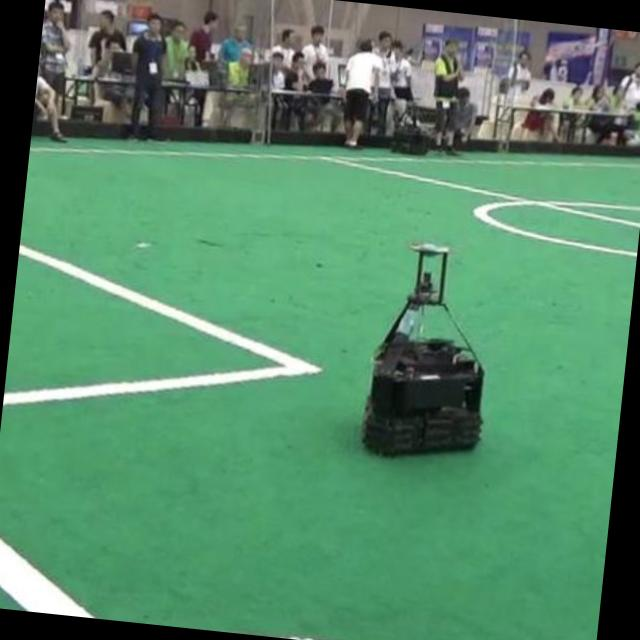robot: (362, 246, 482, 454)
